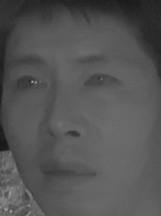eye: (81, 68, 121, 95), (13, 71, 48, 95)
mouth: (37, 156, 99, 192)
